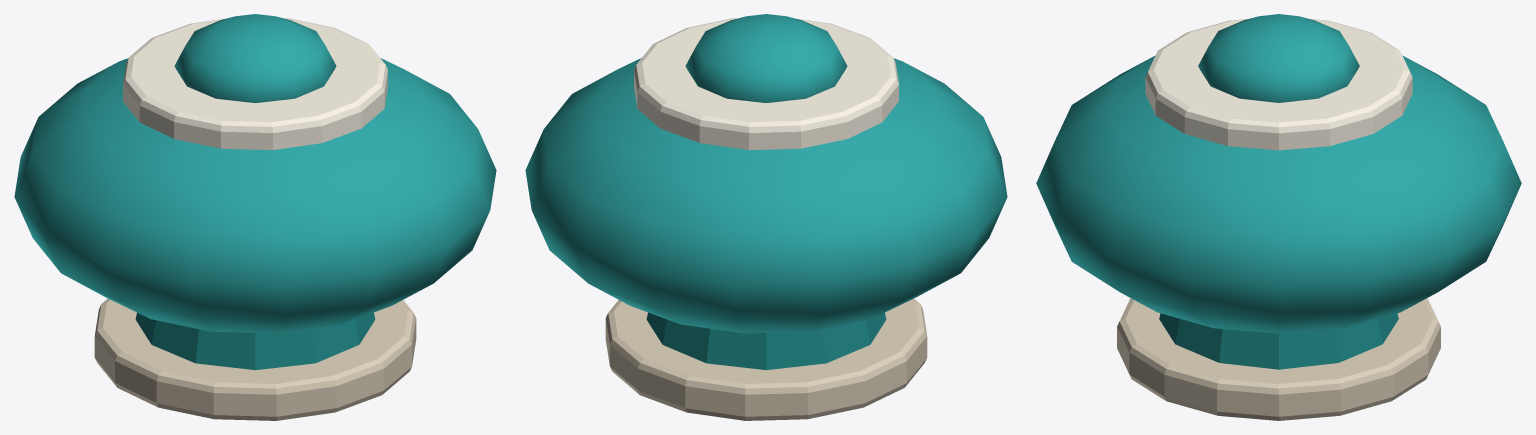
Rendered from round3.glb.
The picture shows the model from 3 angles, left to right: view 1: azimuth 30°, elevation 25°; view 2: azimuth 150°, elevation 25°; view 3: azimuth 270°, elevation 25°; orthographic projection.
Visible parts, largest first — view 1: cap, base, ring, nub, stem; view 2: cap, base, ring, nub, stem; view 3: cap, base, ring, nub, stem.
Boxes of the visible parts, <box> form: cap: <box>14,58,496,333</box>; base: <box>94,298,416,420</box>; ring: <box>123,18,387,150</box>; nub: <box>174,14,336,102</box>; stem: <box>135,312,375,370</box>; cap: <box>525,58,1007,333</box>; base: <box>605,298,927,420</box>; ring: <box>634,18,898,150</box>; nub: <box>685,14,847,102</box>; stem: <box>646,312,886,370</box>; cap: <box>1036,55,1521,333</box>; base: <box>1117,298,1440,420</box>; ring: <box>1145,19,1412,150</box>; nub: <box>1198,14,1359,102</box>; stem: <box>1159,313,1398,369</box>.
Size of what is drawn, in the model's own units: 1.07 by 0.8 by 1.07.
